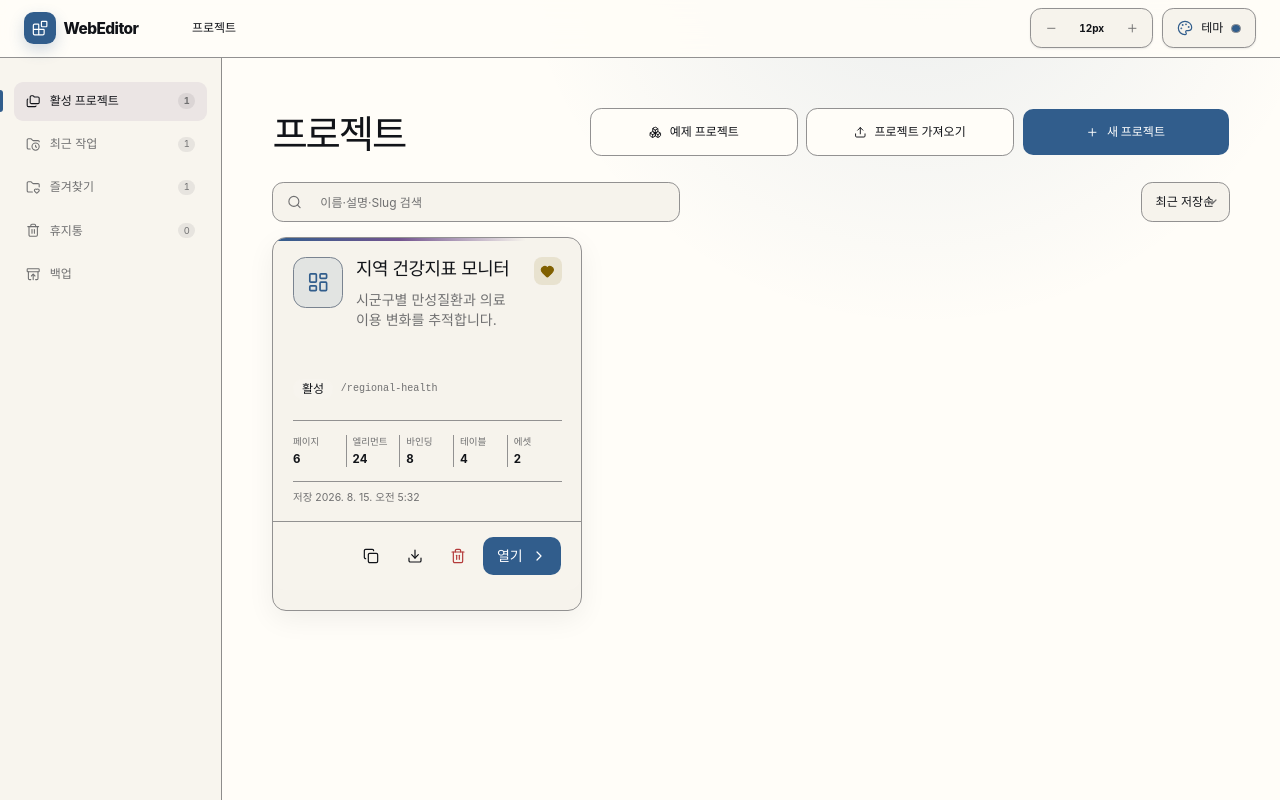
Test: WebEditor persistent project home › separates the page manager and element palette into independent left-panel regions
Expected: the heading "지역 건강지표 모니터" is shown, x1=356 y1=257 x2=521 y2=282
Click the button "열기": (522, 556) x1=482 y1=536 x2=562 y2=576
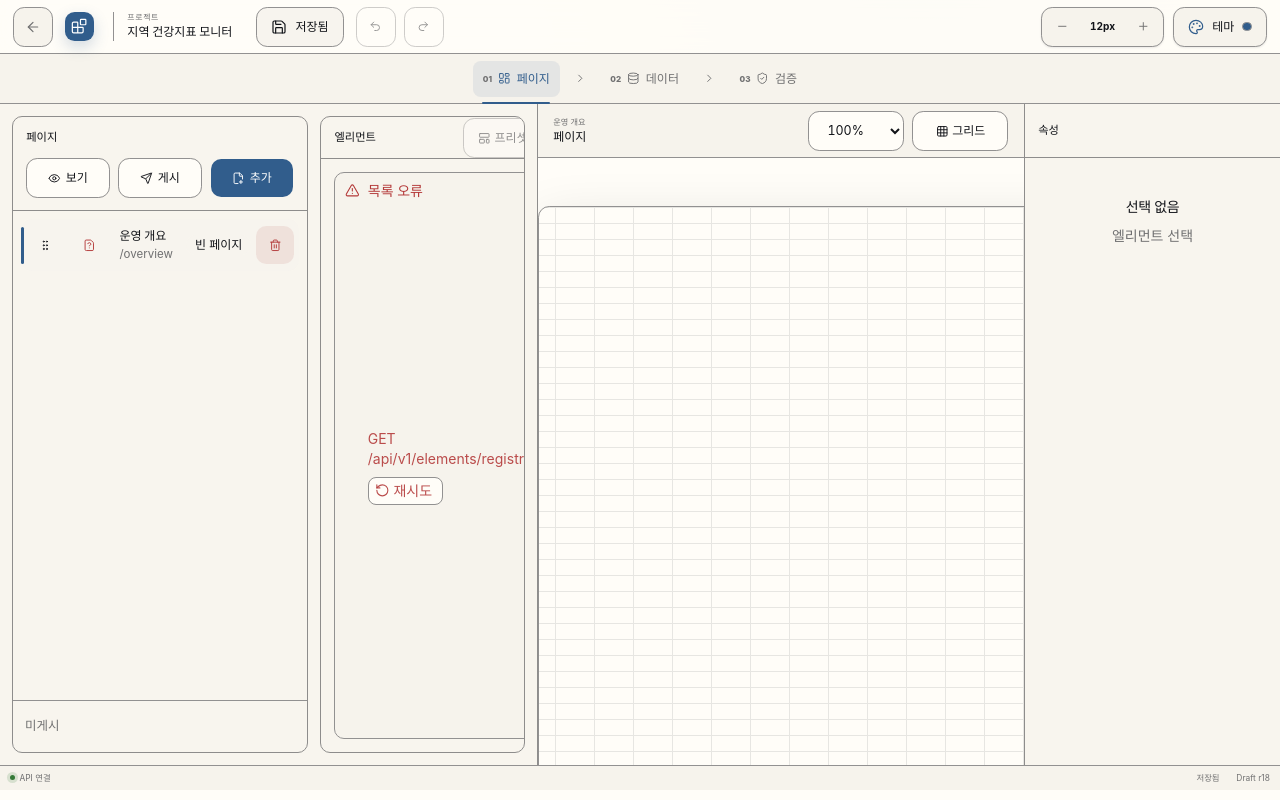
Result: the element named "페이지 캔버스" is shown at x1=538 y1=158 x2=1024 y2=765
Result: the element with class "editor-left-panel" is shown at x1=0 y1=104 x2=538 y2=765
